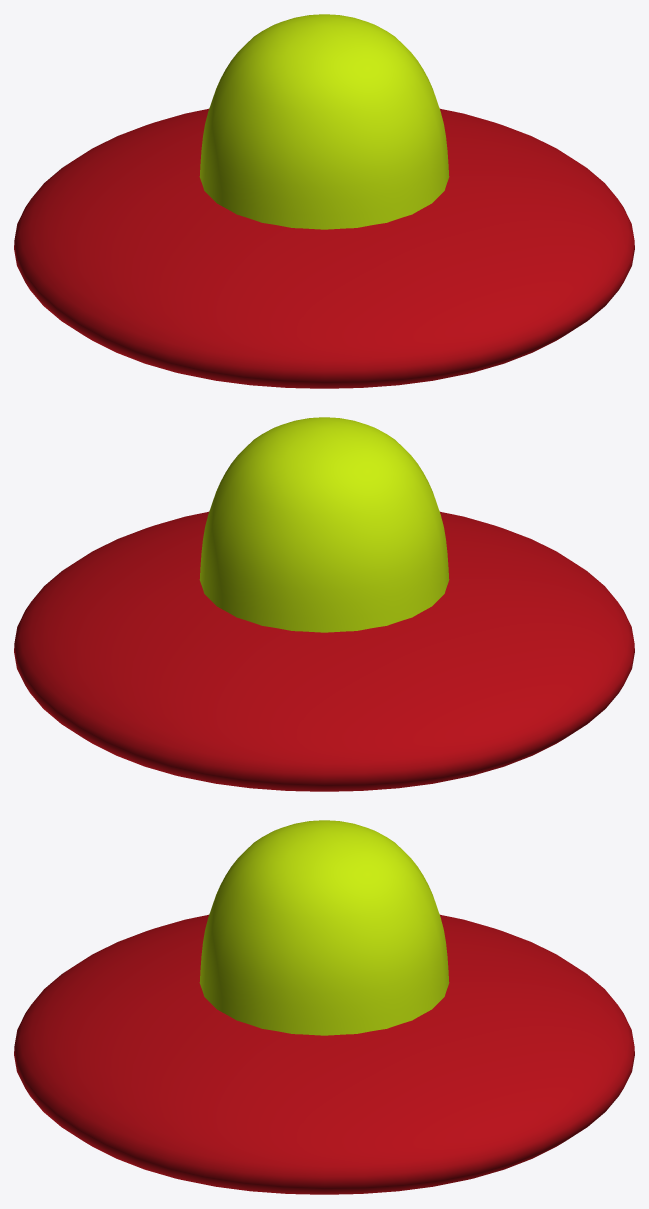
File: diving alien ship.dae
3 renders of one model, top to bottom at view 1: azimuth 30°, elevation 25°; view 2: azimuth 150°, elevation 25°; view 3: azimuth 270°, elevation 25°, orthographic.
Parts seen in each view (by area): view 1: Body, Dome; view 2: Body, Dome; view 3: Body, Dome.
Boxes of the visible parts, <box> form: Body: <box>14,108,634,388</box>; Dome: <box>199,14,449,229</box>; Body: <box>14,511,634,791</box>; Dome: <box>199,417,449,632</box>; Body: <box>14,914,634,1194</box>; Dome: <box>199,820,449,1035</box>.
Size of the model in its own units: 1.43 by 1.44 by 0.6927.
